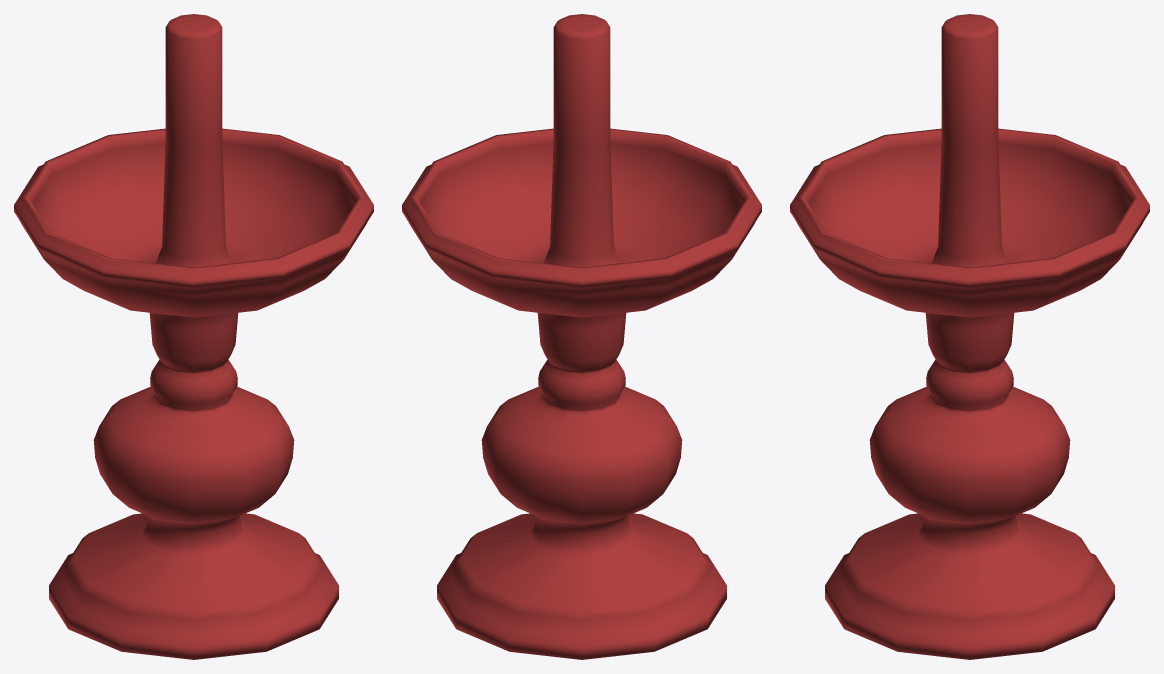
File: st2_candlestick_gold_low.fbx
3 renders of one model, left to right at view 1: azimuth 30°, elevation 25°; view 2: azimuth 150°, elevation 25°; view 3: azimuth 270°, elevation 25°, orthographic.
Visible parts, largest first — view 1: st2_candlestick_gold_low; view 2: st2_candlestick_gold_low; view 3: st2_candlestick_gold_low.
Boxes of the visible parts, left/top/right/bottom form: st2_candlestick_gold_low: left=14, top=14, right=373, bottom=659; st2_candlestick_gold_low: left=402, top=14, right=761, bottom=659; st2_candlestick_gold_low: left=790, top=14, right=1149, bottom=659.
Bounding box in the file's own units: 360 × 635 × 360.
